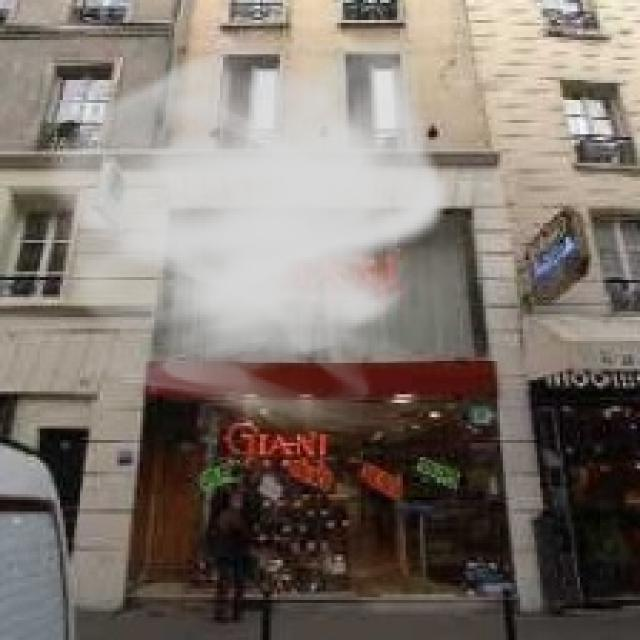Smoke: (34, 29, 452, 438)
